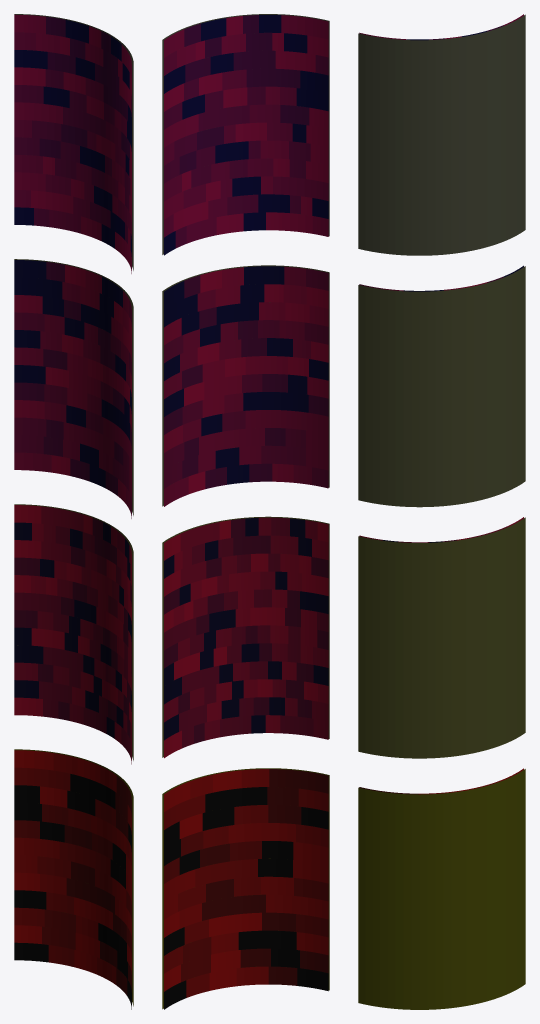
File: Wall_Lining_Corner.glb
The picture shows the model from 3 angles, left to right: view 1: azimuth 90°, elevation 25°; view 2: azimuth 150°, elevation 25°; view 3: azimuth 330°, elevation 25°; orthographic projection. The views are drawn at different scales.
Visible parts, largest first — view 1: Wall_Lining_Corner; view 2: Wall_Lining_Corner; view 3: Wall_Lining_Corner.
Boxes of the visible parts, x1,y1,x2,y2 form: Wall_Lining_Corner: (14, 14, 133, 1009); Wall_Lining_Corner: (162, 14, 329, 1009); Wall_Lining_Corner: (358, 14, 525, 1009).
Size of the model in its own units: 3.09 by 27 by 3.09.
